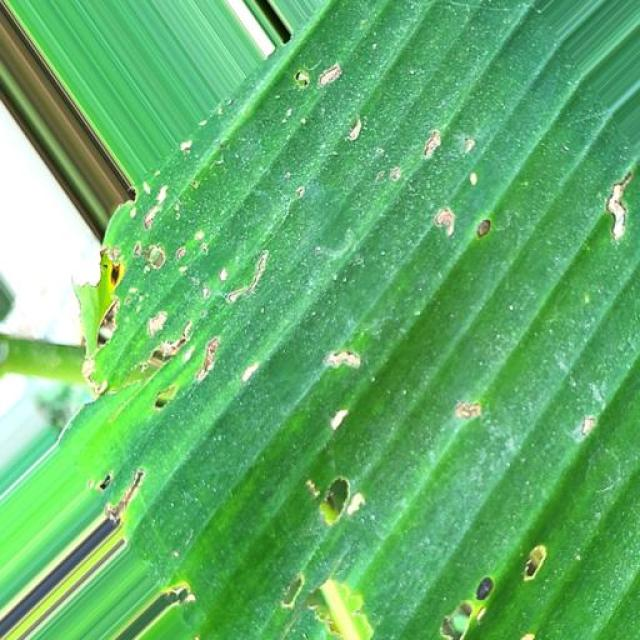Black_rot: (69, 57, 640, 640)
